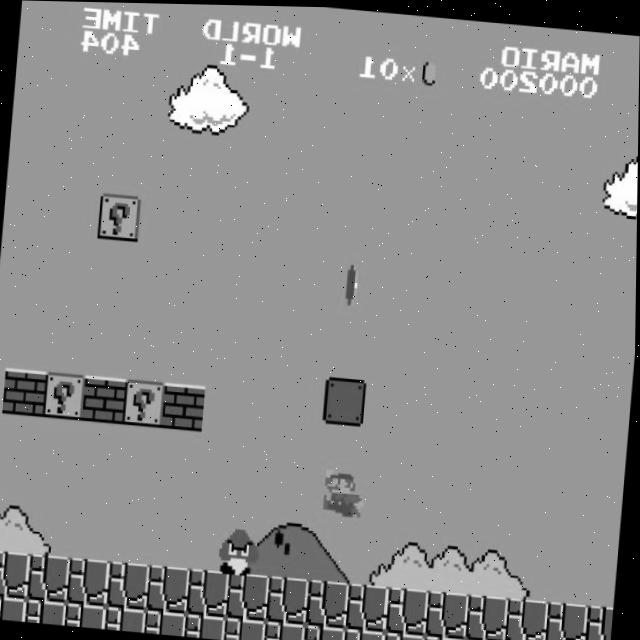1- brick_block: (162, 381, 207, 431), (82, 374, 127, 424), (3, 367, 47, 417)
11- little_mario: (324, 464, 370, 516)
13- mystery_block: (42, 370, 87, 420), (122, 378, 167, 427), (97, 192, 142, 241)
17- undestructible_block: (386, 584, 431, 634), (107, 560, 152, 610), (67, 556, 112, 606), (466, 591, 511, 640), (426, 588, 471, 637), (346, 581, 391, 630), (307, 577, 351, 627), (267, 574, 311, 624), (227, 570, 271, 620), (187, 567, 231, 617), (147, 563, 191, 613), (28, 553, 72, 602), (506, 594, 551, 640), (546, 598, 590, 640), (0, 549, 32, 599), (65, 602, 109, 629), (25, 598, 69, 625), (185, 612, 228, 639), (105, 605, 148, 632), (586, 601, 615, 640), (145, 609, 188, 635), (225, 616, 268, 640), (265, 619, 308, 640), (305, 622, 348, 640), (0, 595, 28, 622), (345, 626, 388, 640), (384, 630, 427, 640), (424, 633, 467, 640), (464, 636, 507, 640), (504, 640, 547, 640)
8- goomba: (218, 523, 265, 576)
